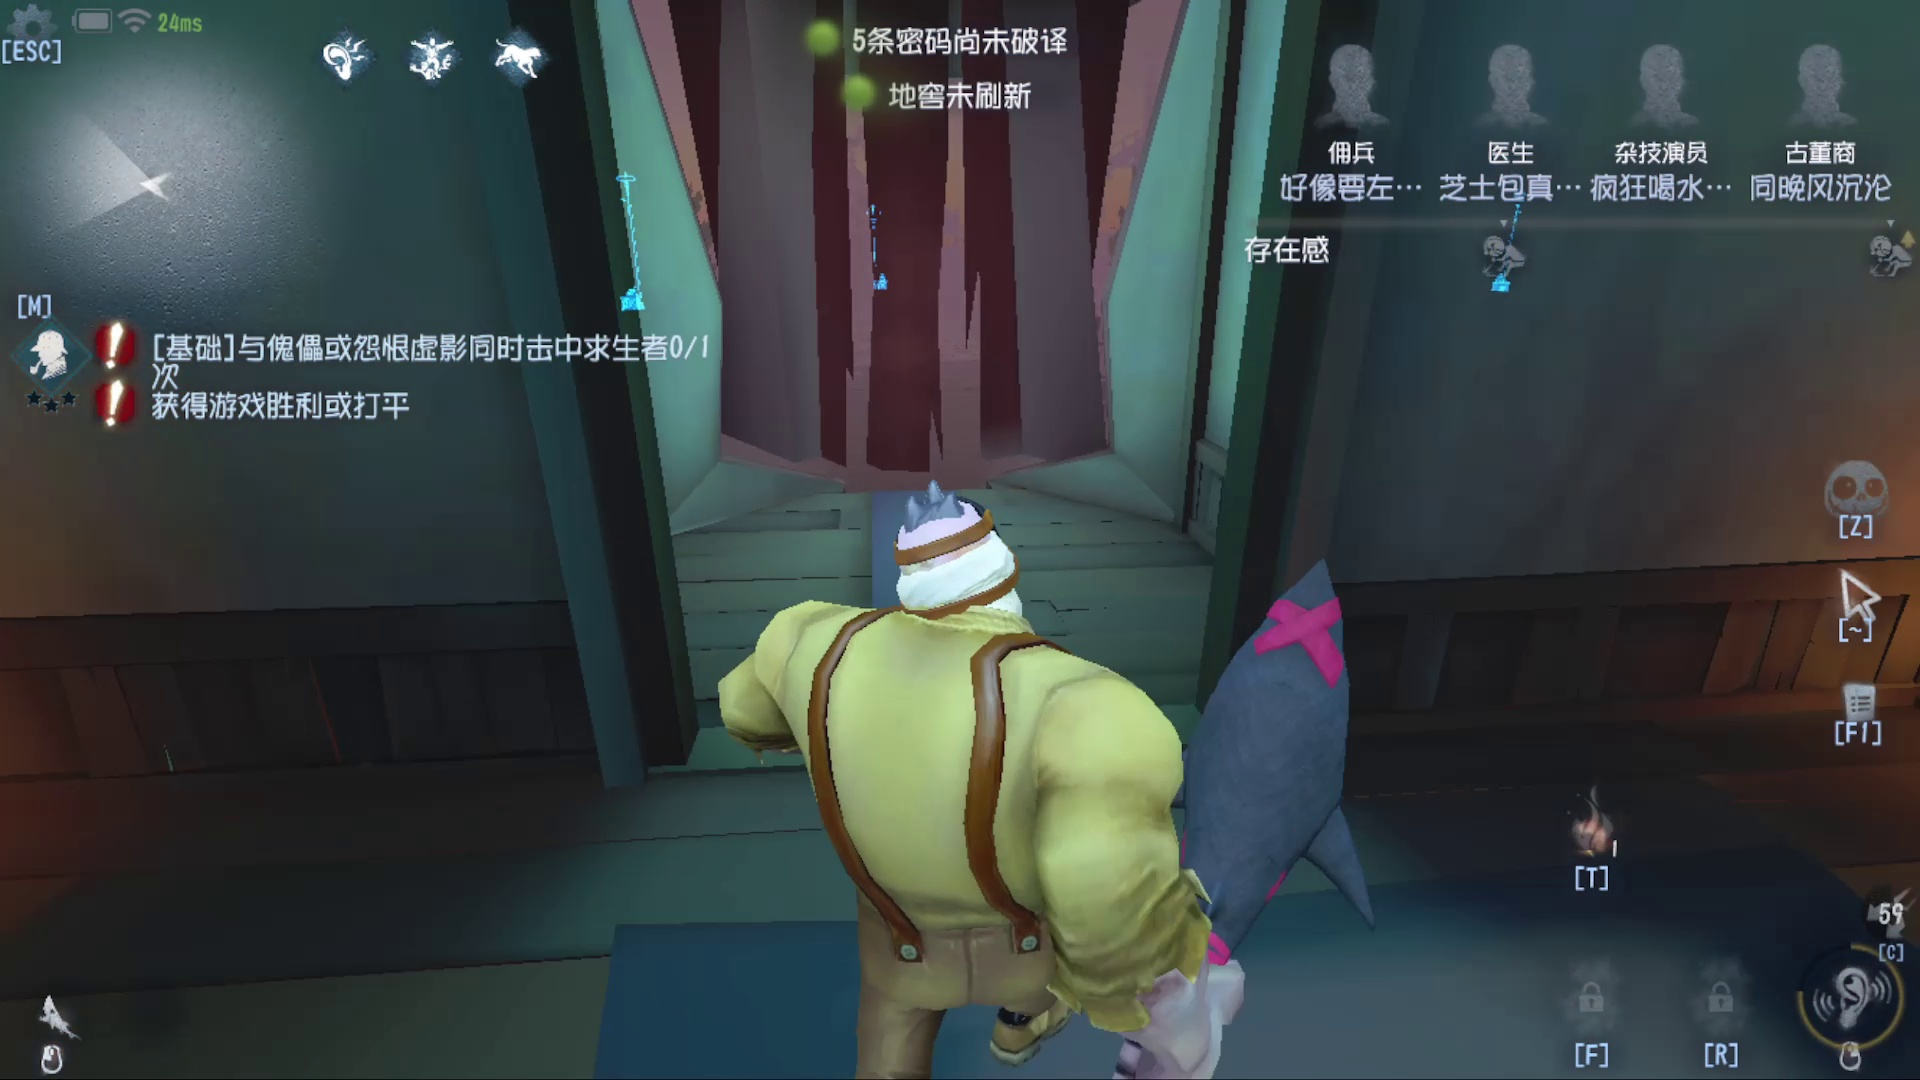密码机: (595, 160, 675, 324), (1466, 185, 1552, 305), (856, 191, 895, 309)
